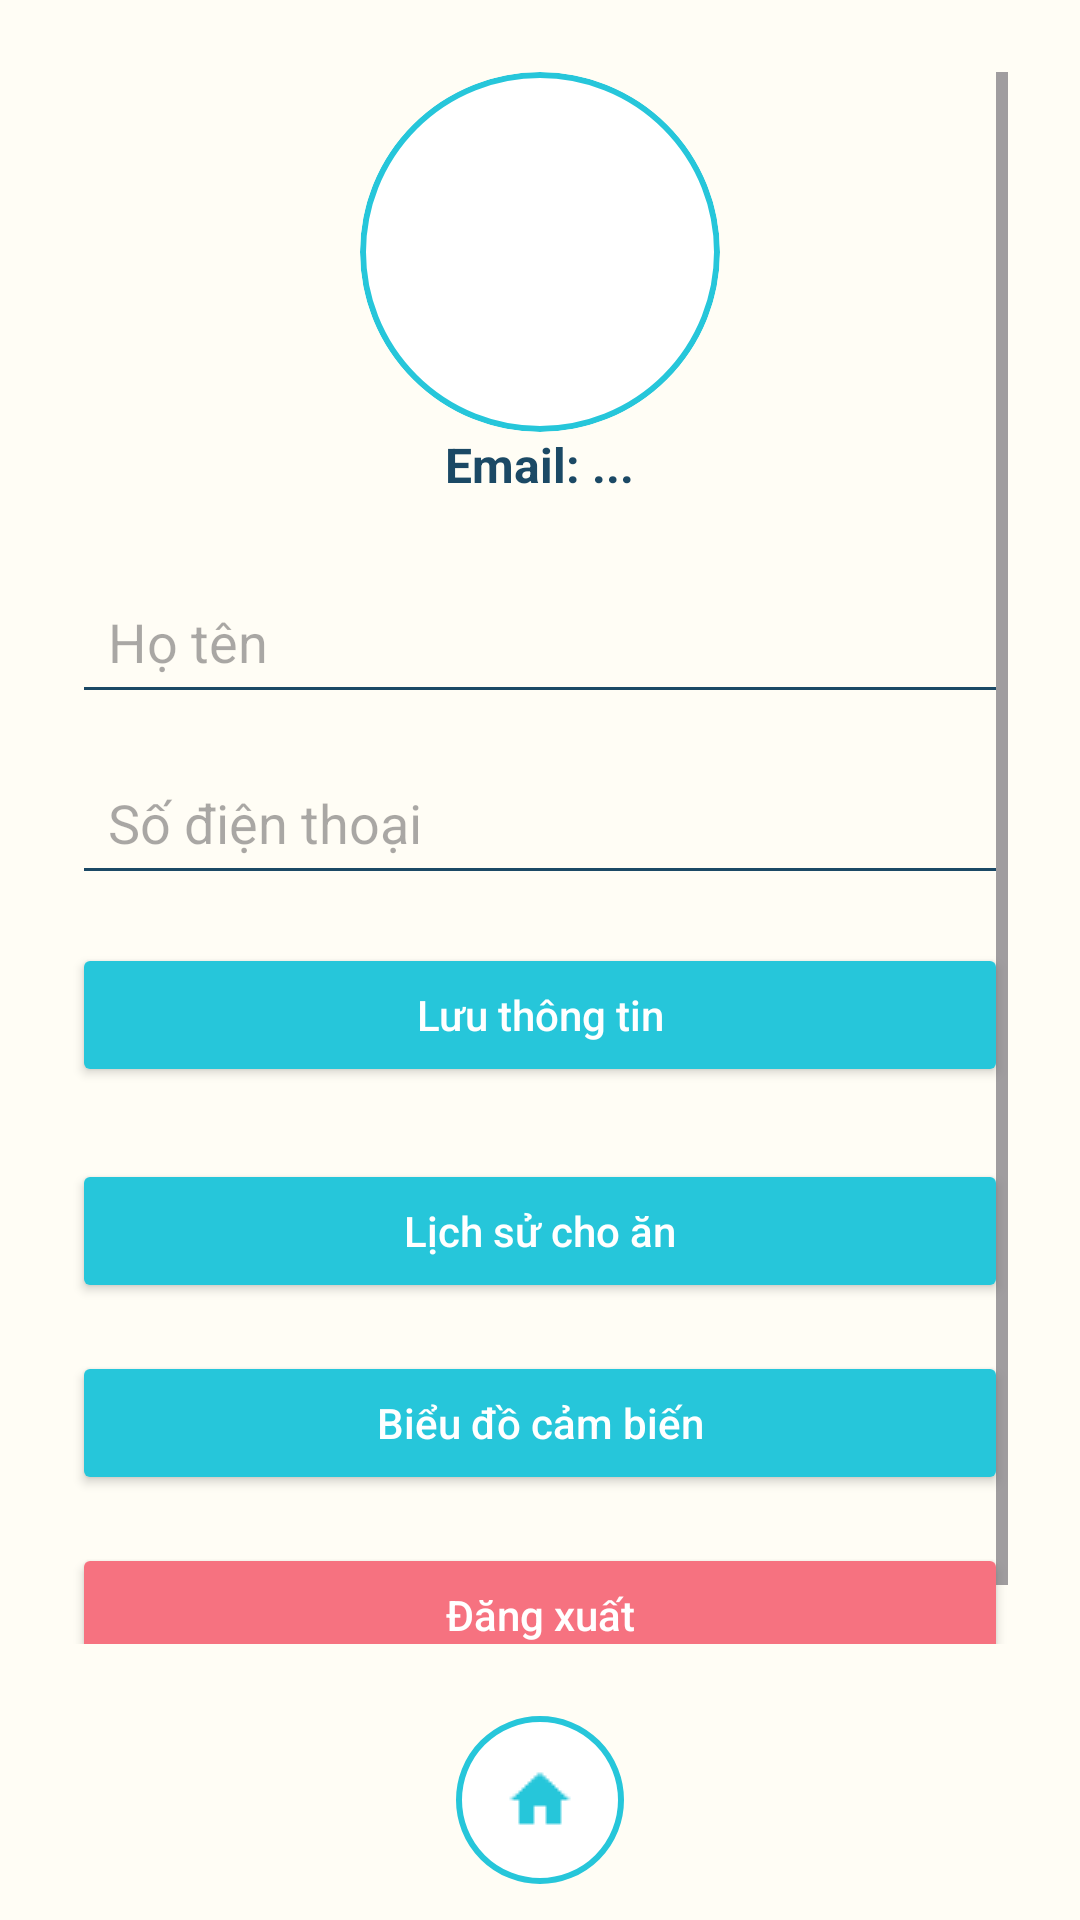

Locate icon controls on the screen. Image size 1080x1920, boxes as BBox(x1, y1, x2, y2).
Trang chủ: BBox(456, 1716, 624, 1884)
